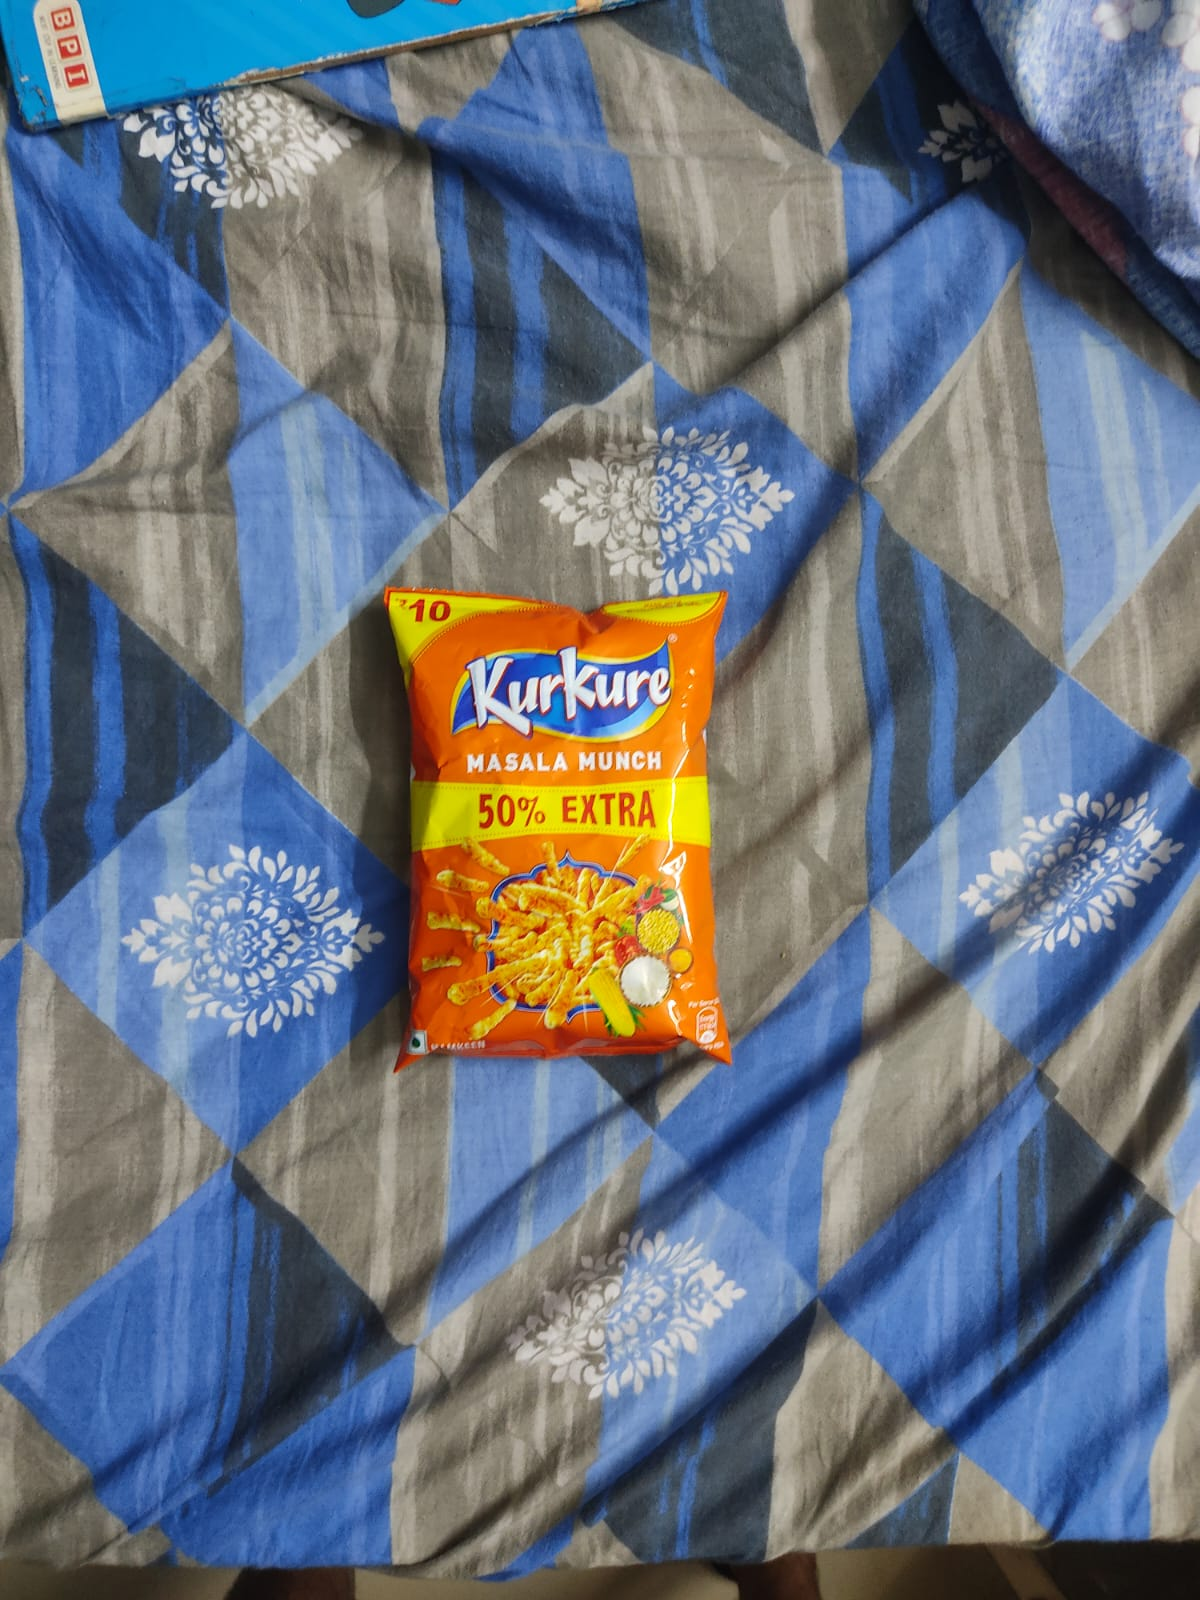010_Kurkure: (389, 590, 727, 1060)
